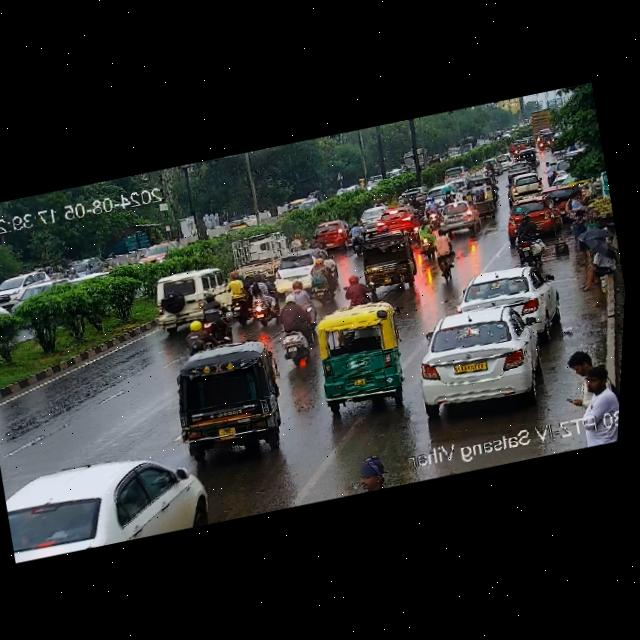car: (0, 441, 208, 564), (157, 337, 293, 472), (406, 296, 557, 417), (293, 288, 412, 425), (455, 257, 561, 337), (145, 259, 246, 334), (266, 243, 347, 302), (353, 225, 422, 290), (224, 224, 299, 280), (501, 194, 569, 243), (0, 261, 68, 304), (371, 200, 426, 242), (432, 200, 483, 239), (305, 215, 357, 253), (463, 181, 495, 205), (440, 164, 471, 188), (505, 159, 534, 178), (494, 150, 519, 172), (518, 148, 538, 165)
motorcycle: (267, 290, 316, 371), (177, 290, 237, 351), (505, 206, 549, 271), (238, 269, 285, 328), (304, 254, 341, 308), (410, 213, 440, 263), (344, 221, 368, 250), (422, 196, 444, 220), (437, 187, 454, 205), (480, 158, 497, 175)
person: (558, 343, 622, 412), (566, 227, 626, 297), (564, 209, 597, 269), (548, 184, 581, 220)
